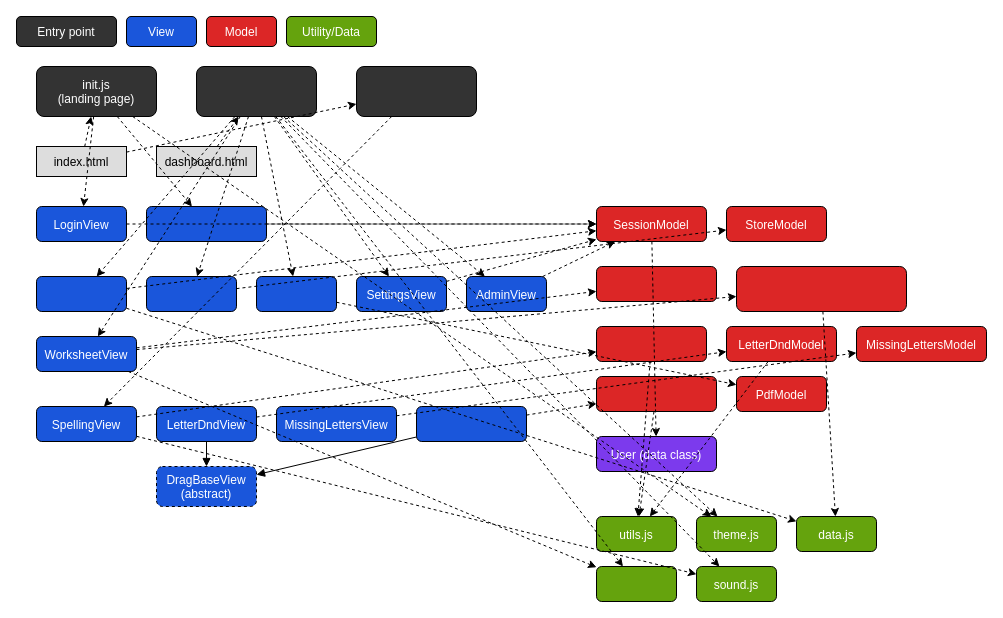
The diagram is 1003 pixels wide and 618 high, and some of its shapes have lost their labels. Each missing label, with the centre of its shape:
CreateAccountView: [206,224]
dashboard_init.js (main app): [256,91]
demo_init.js (exercise carousel): [416,91]
effects.js: [636,584]
HardcoreWorksheetModel (extends WorksheetModel): [821,289]
LevelsView: [81,294]
PdfView: [296,294]
ShopView: [191,294]
SpellingModel: [651,344]
WordOrderModel: [656,394]
WordOrderView: [471,424]
WorksheetModel: [656,284]
